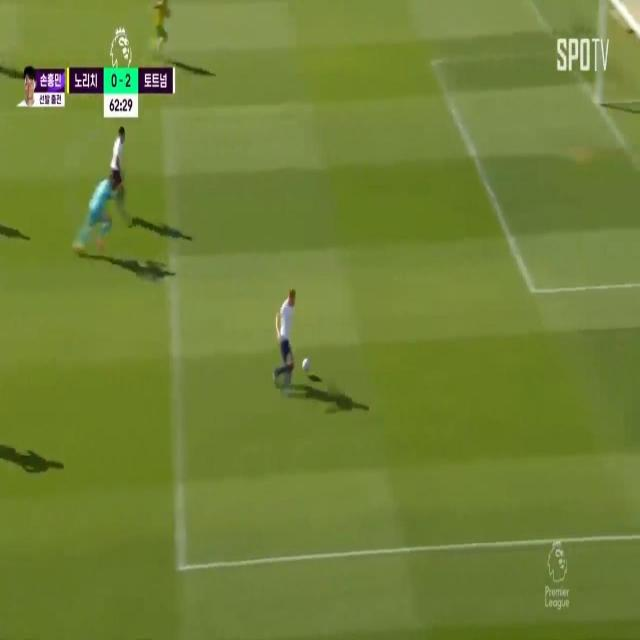ball: (302, 352, 312, 380)
player: (272, 282, 298, 390), (110, 125, 132, 223), (152, 0, 176, 56)
